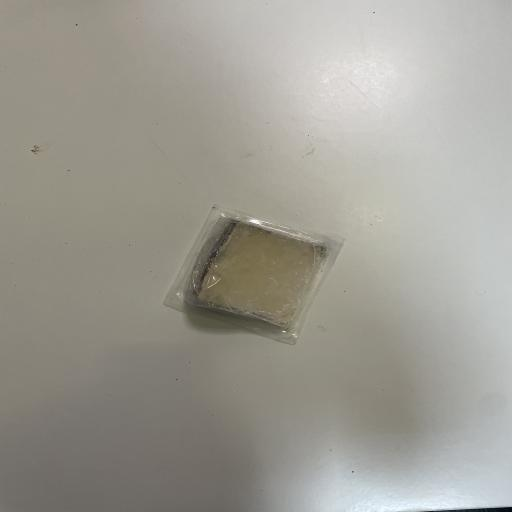cured_goat_cheese: (135, 176, 386, 372)
